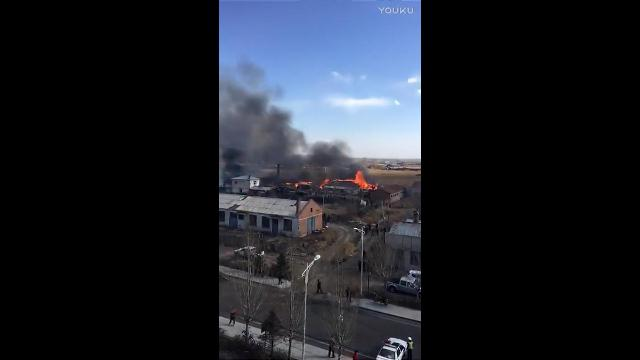fire: (354, 169, 366, 187), (364, 183, 376, 190), (334, 178, 356, 180), (322, 178, 328, 184)
